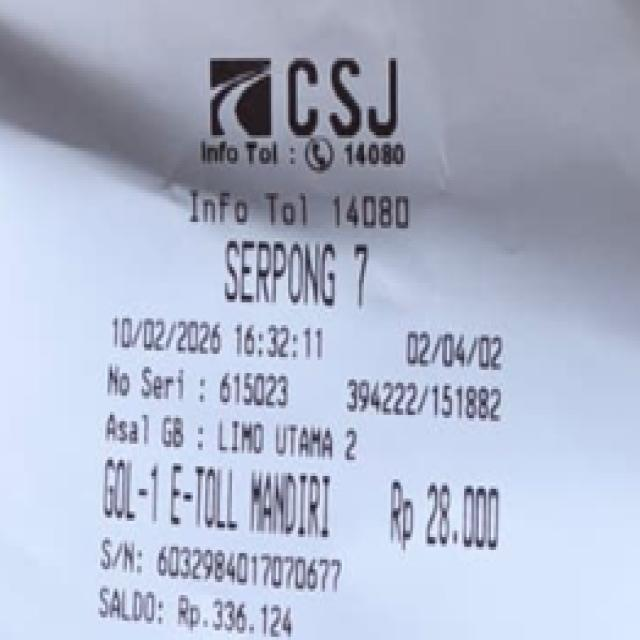date: (114, 317, 326, 361)
store: (192, 54, 418, 182)
total: (379, 471, 502, 557)
